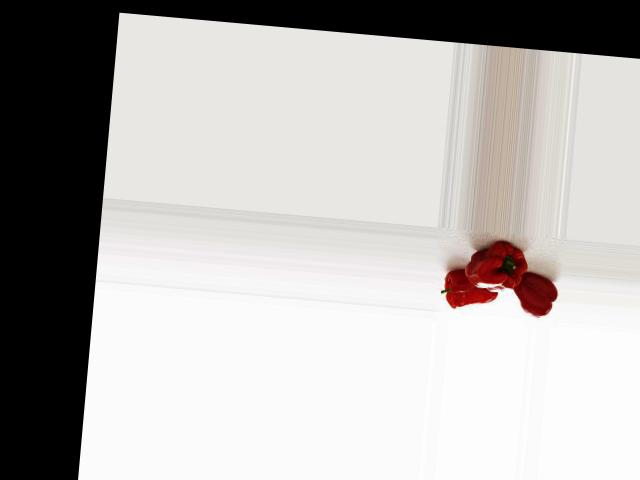bell_pepper: (514, 269, 562, 319)
